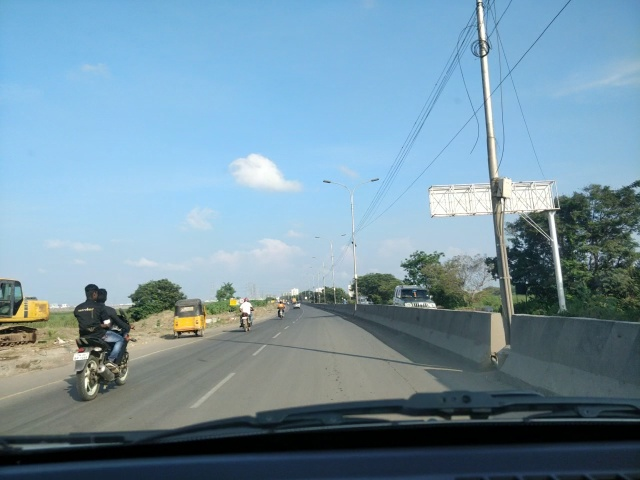auto: (172, 297, 207, 344)
car: (395, 283, 440, 328), (392, 283, 435, 308), (350, 290, 373, 315), (352, 290, 372, 304), (294, 300, 303, 311)
motorbike: (74, 286, 135, 396), (232, 291, 256, 335), (273, 297, 288, 319)
truck: (1, 275, 51, 346)
